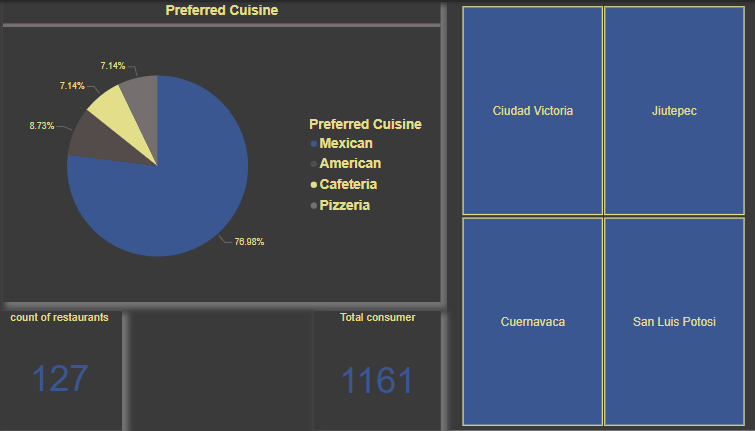

This screenshot's page, from the dashboard's own definition file:
{"tool":"powerbi","page":{"name":"Page 2","canvas":[1280,720],"ordinal":2},"visuals":[{"type":"pieChart","title":" Preferred Cuisine","fields":{"Category":["consumer preferences.Preferred Cuisine"],"Y":["consumer preferences.cuisine count"]},"box":[10.6,0,735.2,504.2],"z":0},{"type":"slicer","fields":{"Values":["consumers.City"]},"box":[756.4,0,523.6,719.3],"z":1000},{"type":"card","title":"count of restaurants ","fields":{"Values":["Count(the restaurants.restaurants.Name)"]},"box":[0,518.3,209.8,201],"z":2000},{"type":"card","title":"Total consumer ","fields":{"Values":["the restaurants.count of consumers"]},"box":[532.5,518.3,213.3,201],"z":3000}]}

Visuals, with their boxes in screenshot pixels (x1, y1, x2, y2), scaled from the page's 1280x720 canvas onto the 755x431 screenshot:
" Preferred Cuisine" pieChart: {"left": 6, "top": 0, "right": 440, "bottom": 302}
slicer - consumers.City: {"left": 446, "top": 0, "right": 754, "bottom": 430}
"count of restaurants " card: {"left": 0, "top": 310, "right": 124, "bottom": 430}
"Total consumer " card: {"left": 314, "top": 310, "right": 440, "bottom": 430}
